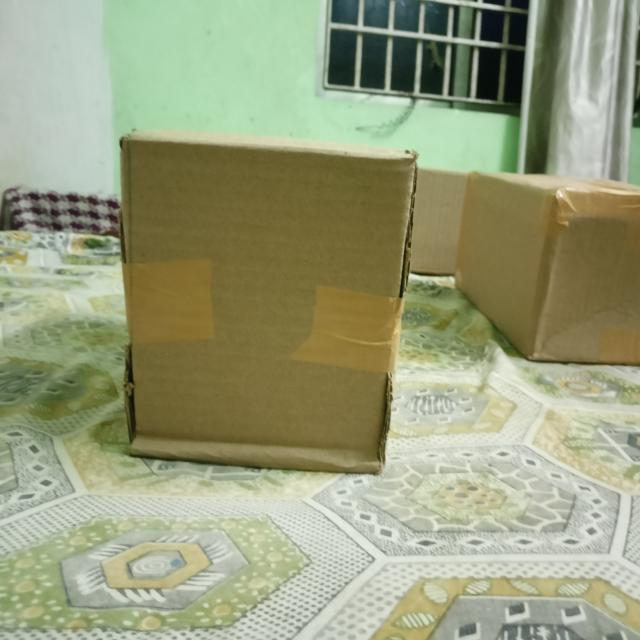box: (122, 141, 416, 471)
